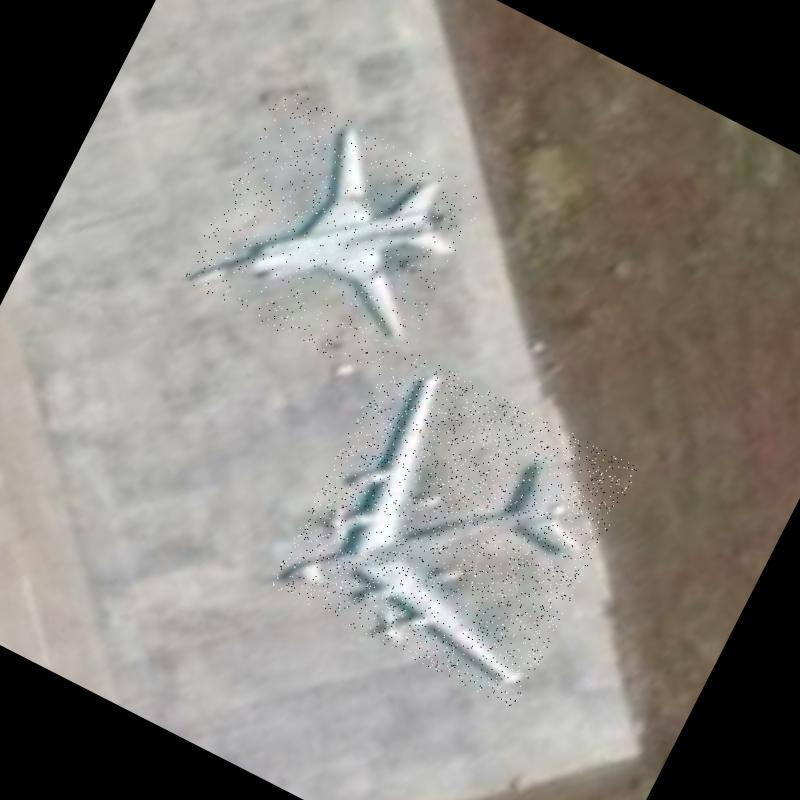A12: (180, 84, 489, 388)
A17: (270, 342, 638, 711)
